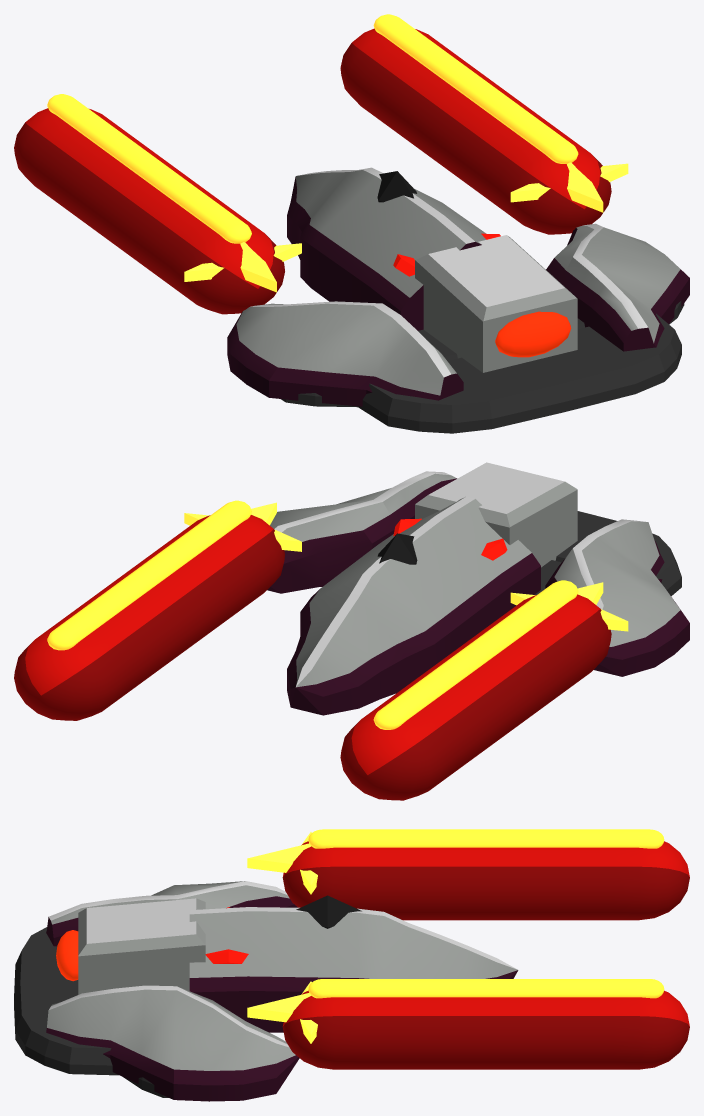
File: pu_megalaser_dual_red.glb
The picture shows the model from 3 angles, top to bottom: view 1: azimuth 30°, elevation 25°; view 2: azimuth 150°, elevation 25°; view 3: azimuth 270°, elevation 25°; orthographic projection. The views are drawn at different scales.
Parts seen in each view (by area): view 1: beam_r, beam_l, blade_left, spire, base_rear, block, blade_right, beam_r_core, beam_l_core, exhaust, base_front, muzzle_r_0 (+4 smaller); view 2: spire, beam_r, beam_l, blade_left, blade_right, block, beam_r_core, beam_l_core, base_rear, canopy, muzzle_l_1, muzzle_r_1; view 3: beam_r, beam_l, spire, blade_right, block, base_rear, beam_l_core, beam_r_core, blade_left, canopy, exhaust, muzzle_l_0 (+2 smaller).
Part boxes in pixels (left/top/right/bottom): beam_r: left=340, top=28, right=611, bottom=234; beam_l: left=14, top=108, right=284, bottom=314; blade_left: left=227, top=301, right=463, bottom=406; spire: left=287, top=167, right=486, bottom=330; base_rear: left=357, top=313, right=681, bottom=433; block: left=415, top=235, right=577, bottom=372; blade_right: left=546, top=223, right=689, bottom=351; beam_r_core: left=373, top=14, right=578, bottom=163; beam_l_core: left=47, top=94, right=251, bottom=243; exhaust: left=495, top=311, right=571, bottom=357; base_front: left=281, top=301, right=684, bottom=407; muzzle_r_0: left=567, top=162, right=603, bottom=212; spire: left=287, top=496, right=540, bottom=715; beam_r: left=14, top=515, right=284, bottom=720; beam_l: left=340, top=594, right=611, bottom=800; blade_left: left=545, top=519, right=689, bottom=676; blade_right: left=267, top=471, right=456, bottom=593; block: left=415, top=462, right=577, bottom=567; beam_r_core: left=47, top=500, right=251, bottom=650; beam_l_core: left=373, top=580, right=578, bottom=729; base_rear: left=555, top=511, right=681, bottom=596; canopy: left=377, top=533, right=417, bottom=564; muzzle_l_1: left=510, top=592, right=628, bottom=631; muzzle_r_1: left=184, top=513, right=301, bottom=551; beam_r: left=282, top=990, right=689, bottom=1069; beam_l: left=282, top=841, right=689, bottom=920; spire: left=189, top=907, right=518, bottom=1032; blade_right: left=46, top=985, right=299, bottom=1101; block: left=78, top=898, right=205, bottom=994; base_rear: left=14, top=927, right=118, bottom=1075; beam_l_core: left=308, top=829, right=664, bottom=848; beam_r_core: left=308, top=979, right=664, bottom=998; blade_left: left=46, top=881, right=297, bottom=946; canopy: left=296, top=895, right=361, bottom=928; exhaust: left=56, top=930, right=78, bottom=981; muzzle_l_0: left=247, top=843, right=310, bottom=872.
Bounding box in the file's own units: 13.6 × 3.48 × 19.12.
